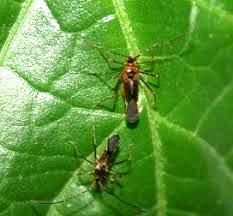Helopeltis-insect: (85, 135, 125, 191), (116, 56, 145, 124)
